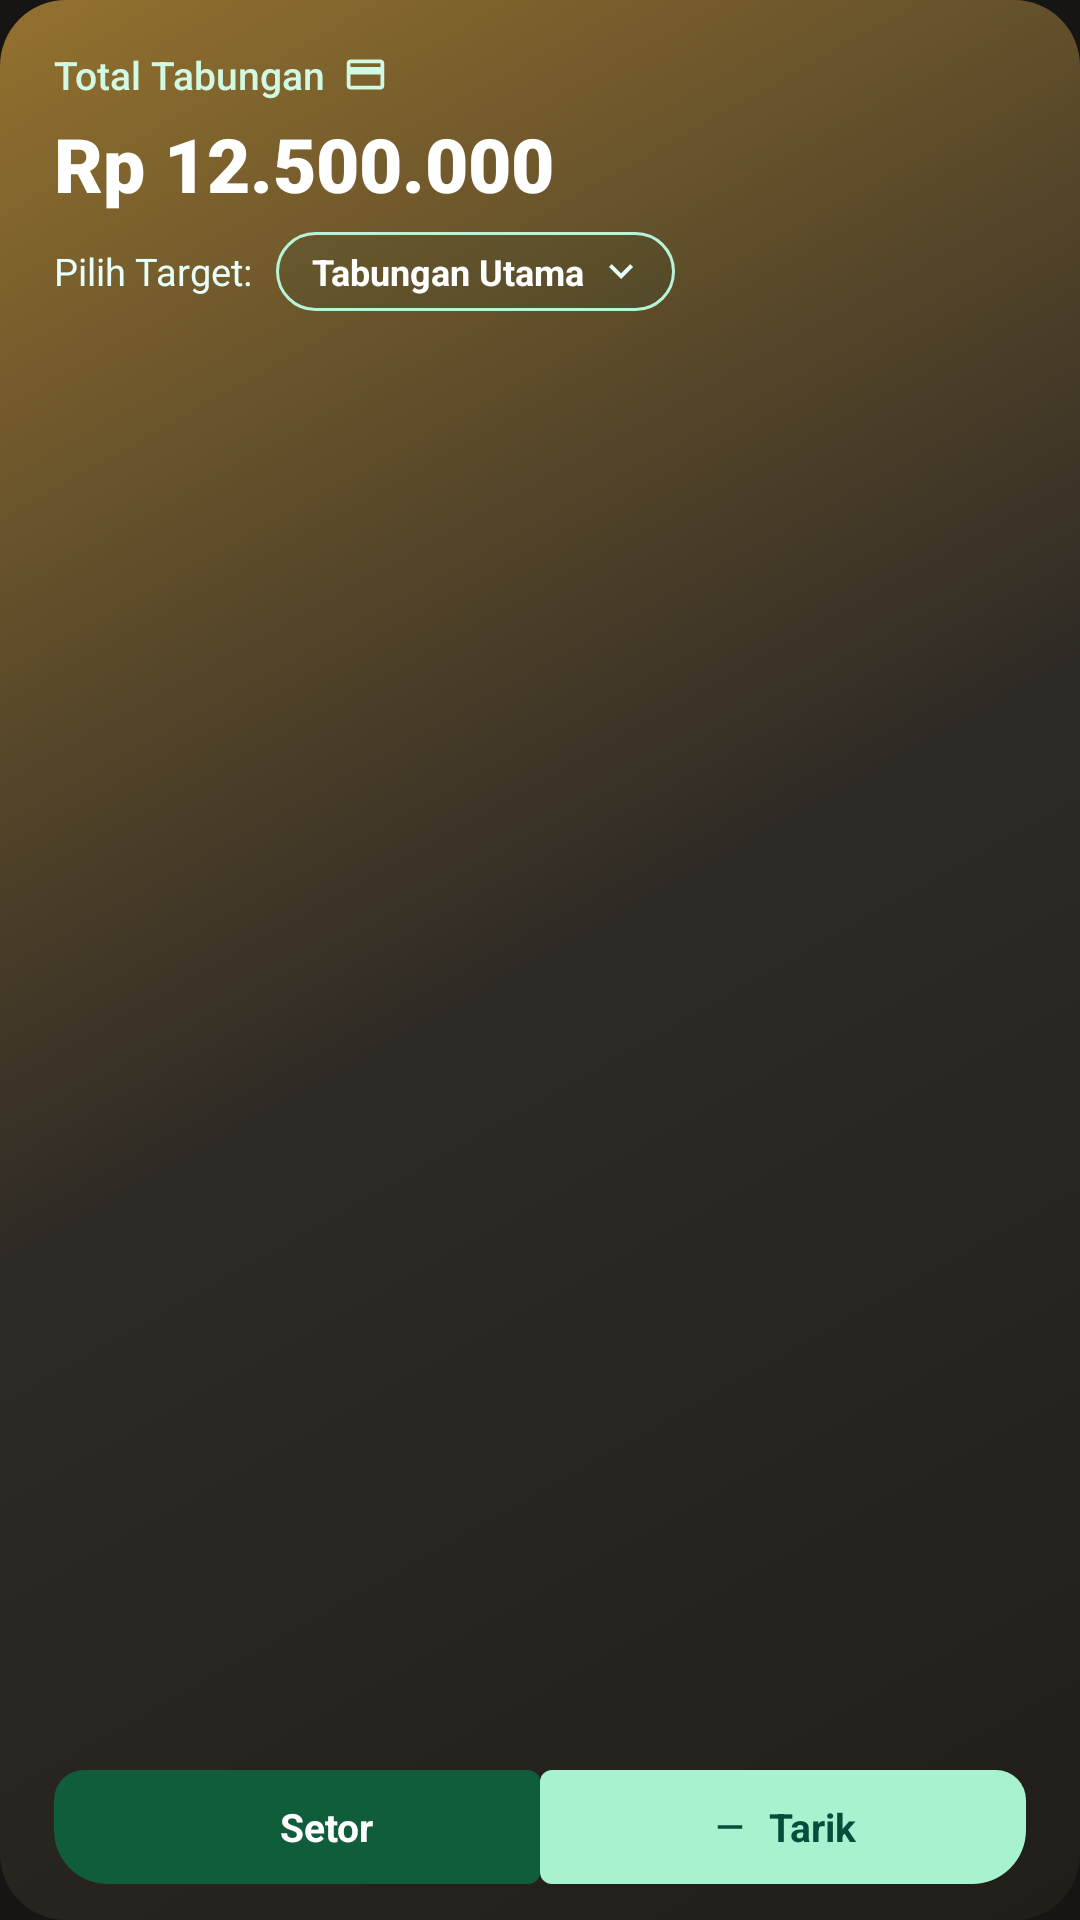

Point at icon controls on the screen. Image size 1080 x 1920, points as (x,y).
Card Icon: (365,74)
Ganti Target: (621,271)
